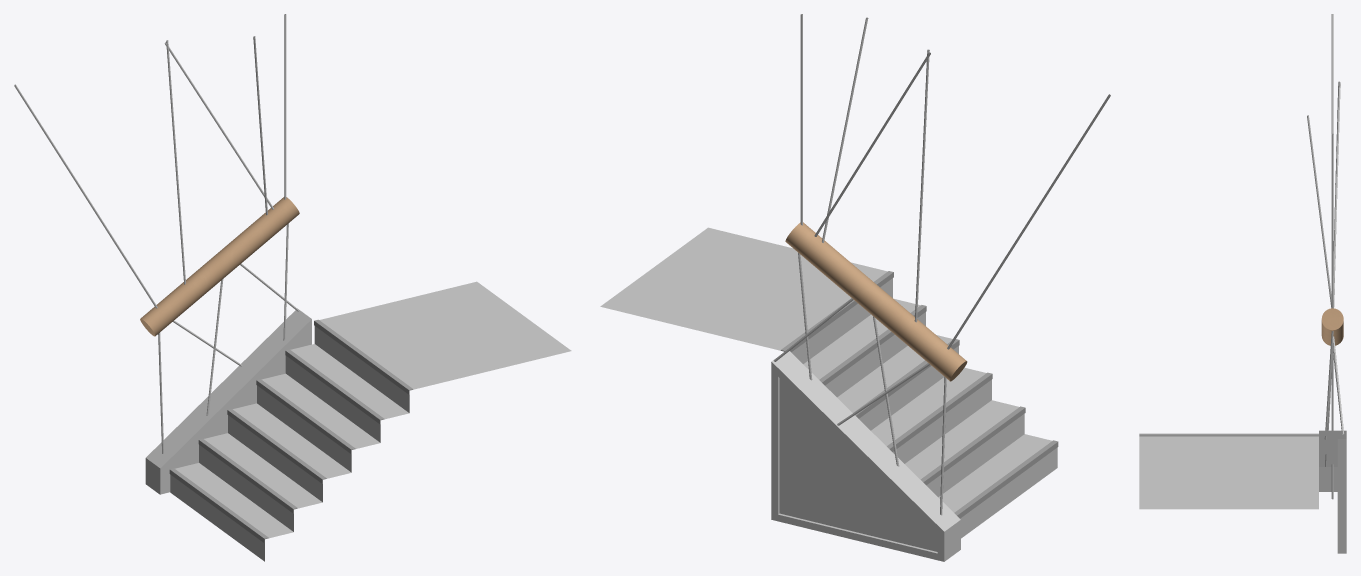
The model's file is SM_ClubStairs_01.fbx.
3 views of the same model, side by side, from view 1: azimuth 30°, elevation 25°; view 2: azimuth 150°, elevation 25°; view 3: azimuth 270°, elevation 25° (orthographic). The views are drawn at different scales.
Parts seen in each view (by area): view 1: SM_ClubStairs_01_LOD0; view 2: SM_ClubStairs_01_LOD0; view 3: SM_ClubStairs_01_LOD0.
Part boxes in pixels (x1,y1,x2,y2): SM_ClubStairs_01_LOD0: (14, 14, 571, 561); SM_ClubStairs_01_LOD0: (600, 14, 1110, 561); SM_ClubStairs_01_LOD0: (1139, 14, 1346, 553).
Size of the model in its own units: 360 by 150 by 336.
